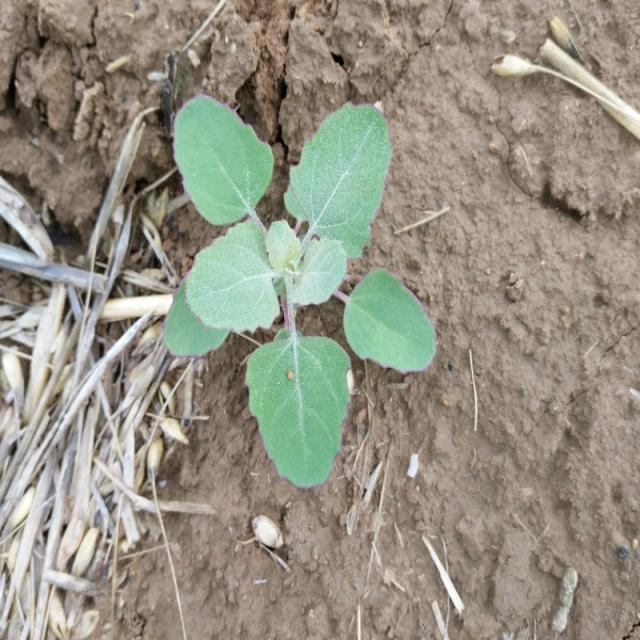goosefoots: (161, 92, 440, 487)
